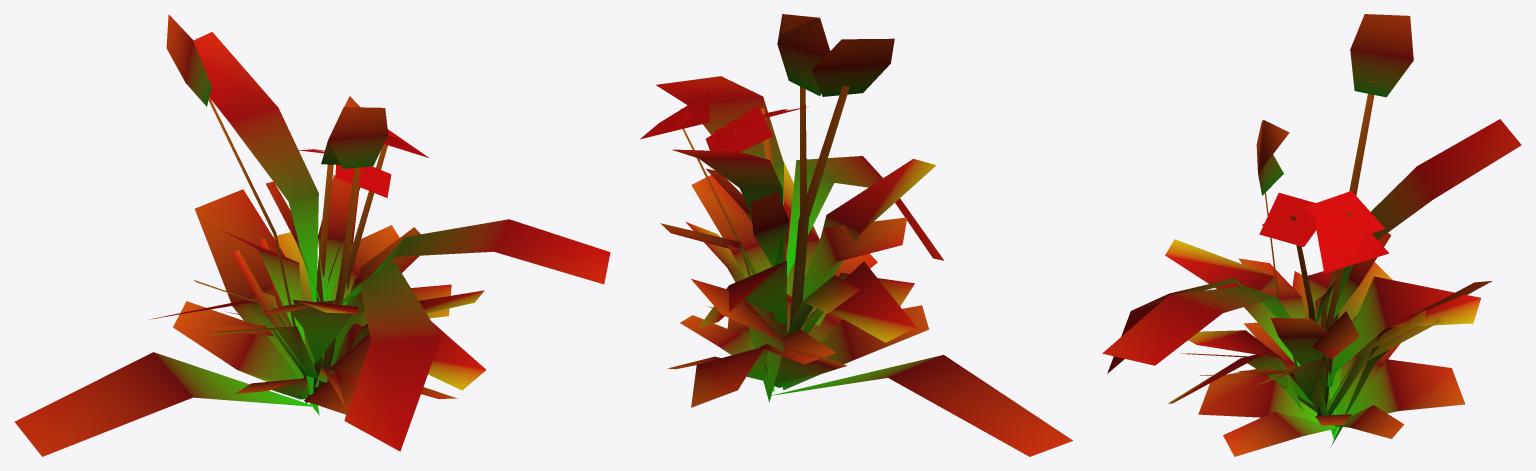
Rendered from Cape Weed_LOD3_Var5_tjmhfcyia.fbx.
3 views of the same model, side by side, from view 1: azimuth 30°, elevation 25°; view 2: azimuth 150°, elevation 25°; view 3: azimuth 270°, elevation 25° (orthographic). The views are drawn at different scales.
Visible parts, largest first — view 1: _062a_Var5_LOD3; view 2: _062a_Var5_LOD3; view 3: _062a_Var5_LOD3.
Boxes of the visible parts, x1,y1,x2,y2 form: _062a_Var5_LOD3: (15,14,610,456); _062a_Var5_LOD3: (640,14,1072,456); _062a_Var5_LOD3: (1102,14,1521,456).
Size of the model in its own units: 24.15 by 19.14 by 19.14.
